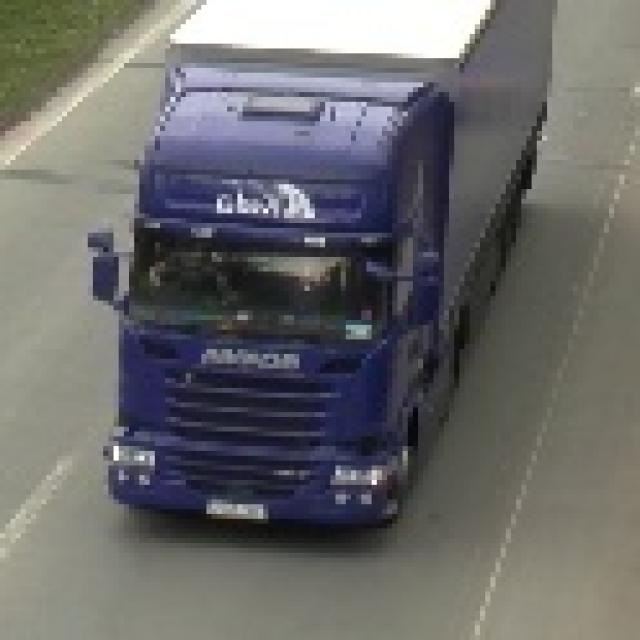TRUCK: (100, 5, 544, 536)
